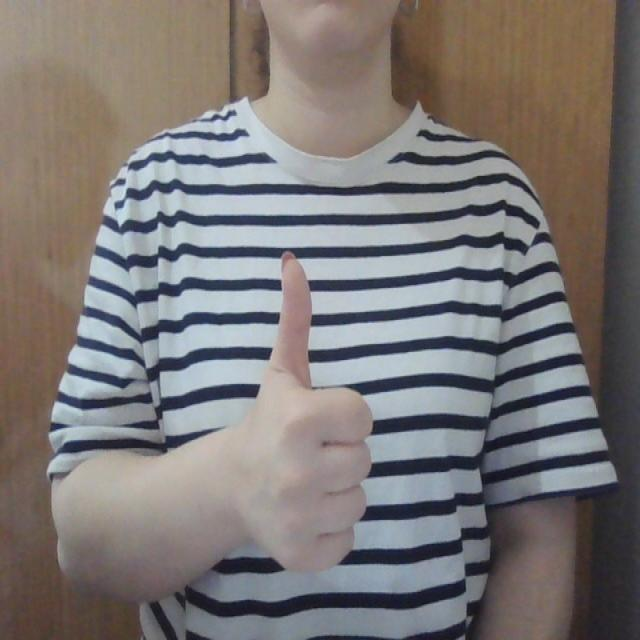Tamam: (220, 238, 383, 582)
